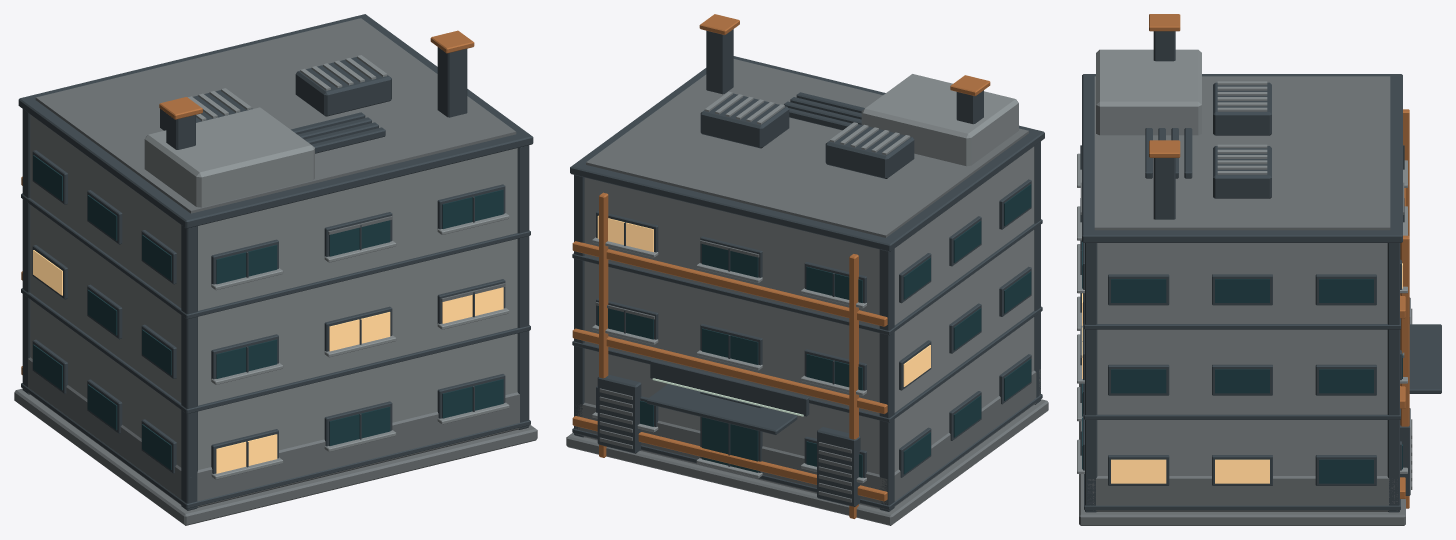
Rendered from foundry_building.glb.
3 renders of one model, left to right at view 1: azimuth 30°, elevation 25°; view 2: azimuth 150°, elevation 25°; view 3: azimuth 270°, elevation 25°, orthographic. The views are drawn at different scales.
Visible parts, largest first — view 1: Structural_Shell, Batch_Foundation, Batch_Charcoal_Trim, Batch_Warm_Mineral_Facade, Batch_Blue_Glazing, Roof_Parapet, Foundation, Batch_Warm_Window_Light, Batch_Painted_Accent; view 2: Structural_Shell, Batch_Charcoal_Trim, Batch_Foundation, Batch_Painted_Accent, Batch_Warm_Mineral_Facade, Batch_Blue_Glazing, Roof_Parapet, Foundation, Entrance_Canopy, Entrance_Glass, Batch_Warm_Window_Light; view 3: Structural_Shell, Batch_Foundation, Batch_Charcoal_Trim, Batch_Warm_Mineral_Facade, Batch_Blue_Glazing, Roof_Parapet, Foundation, Batch_Painted_Accent, Batch_Warm_Window_Light, Entrance_Canopy.
Boxes of the visible parts, x1=… form: Structural_Shell: x1=30, y1=114, x2=517, y2=469; Batch_Foundation: x1=28, y1=18, x2=519, y2=507; Batch_Charcoal_Trim: x1=21, y1=47, x2=530, y2=510; Batch_Warm_Mineral_Facade: x1=144, y1=55, x2=509, y2=479; Batch_Blue_Glazing: x1=33, y1=155, x2=503, y2=469; Roof_Parapet: x1=18, y1=14, x2=533, y2=228; Foundation: x1=14, y1=388, x2=537, y2=525; Batch_Warm_Window_Light: x1=33, y1=250, x2=503, y2=473; Batch_Painted_Accent: x1=21, y1=30, x2=474, y2=374; Structural_Shell: x1=584, y1=146, x2=1034, y2=474; Batch_Charcoal_Trim: x1=572, y1=29, x2=1042, y2=511; Batch_Foundation: x1=575, y1=59, x2=1040, y2=508; Batch_Painted_Accent: x1=572, y1=14, x2=990, y2=518; Batch_Warm_Mineral_Facade: x1=592, y1=74, x2=1018, y2=483; Batch_Blue_Glazing: x1=597, y1=184, x2=1031, y2=477; Roof_Parapet: x1=570, y1=56, x2=1044, y2=251; Foundation: x1=566, y1=399, x2=1048, y2=525; Entrance_Canopy: x1=646, y1=384, x2=797, y2=434; Entrance_Glass: x1=702, y1=417, x2=758, y2=472; Batch_Warm_Window_Light: x1=597, y1=215, x2=930, y2=386; Structural_Shell: x1=1097, y1=243, x2=1387, y2=475; Batch_Foundation: x1=1080, y1=76, x2=1412, y2=511; Batch_Charcoal_Trim: x1=1080, y1=31, x2=1410, y2=512; Batch_Warm_Mineral_Facade: x1=1077, y1=49, x2=1407, y2=473; Batch_Blue_Glazing: x1=1082, y1=242, x2=1402, y2=483; Roof_Parapet: x1=1082, y1=74, x2=1402, y2=242; Foundation: x1=1079, y1=383, x2=1405, y2=525; Batch_Painted_Accent: x1=1149, y1=14, x2=1409, y2=508; Batch_Warm_Window_Light: x1=1082, y1=263, x2=1402, y2=483; Entrance_Canopy: x1=1409, y1=324, x2=1441, y2=393.
Size of what is drawn, in the model's own units: 12.5 by 12.79 by 11.71.
